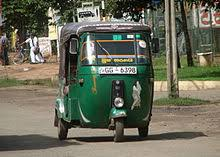tuk tuk: (53, 21, 154, 143)
